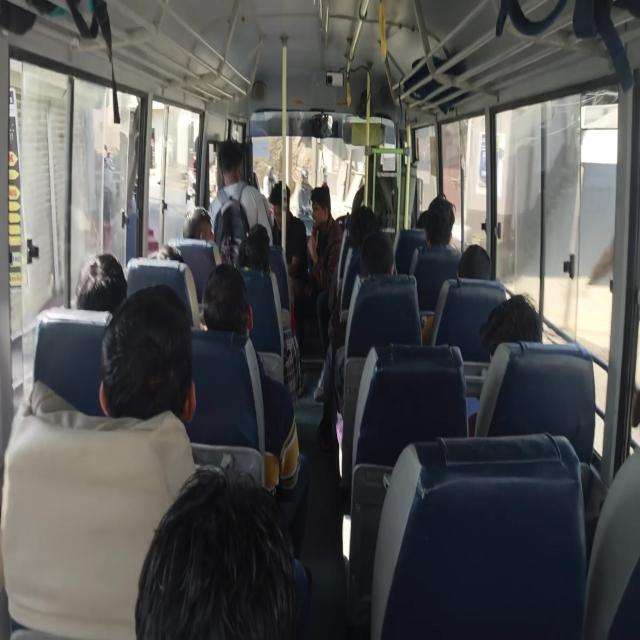person: (136, 482, 312, 640), (103, 285, 183, 416), (485, 323, 572, 388), (192, 260, 258, 338), (78, 248, 130, 335), (266, 188, 312, 247), (362, 240, 405, 292), (468, 240, 508, 294), (304, 181, 335, 242), (175, 200, 209, 251), (431, 197, 466, 245), (216, 134, 244, 176), (238, 236, 272, 270), (241, 220, 269, 250), (158, 234, 182, 261), (417, 196, 438, 224), (352, 204, 372, 233)
